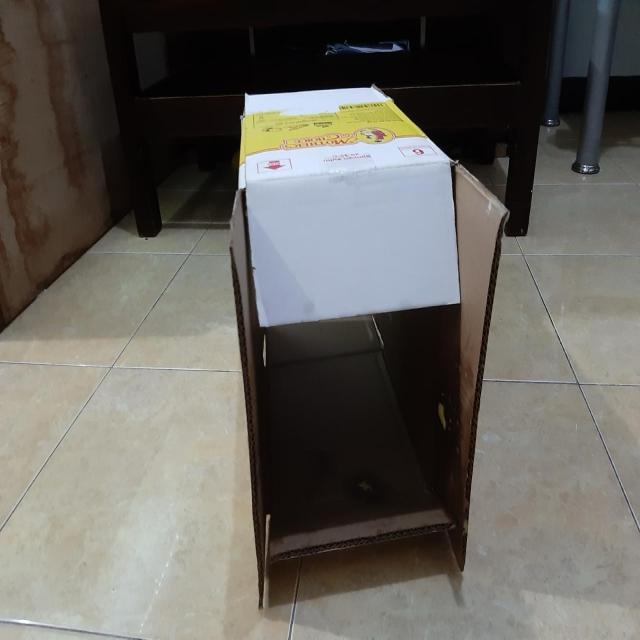Kardus: (228, 86, 510, 609)
